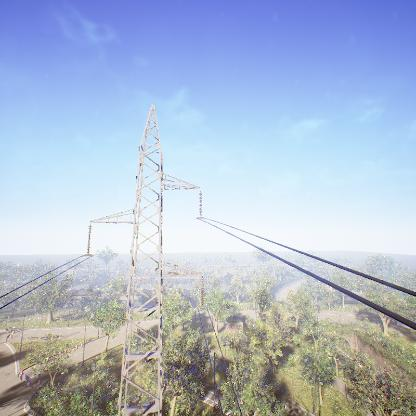tower: (82, 102, 209, 416)
